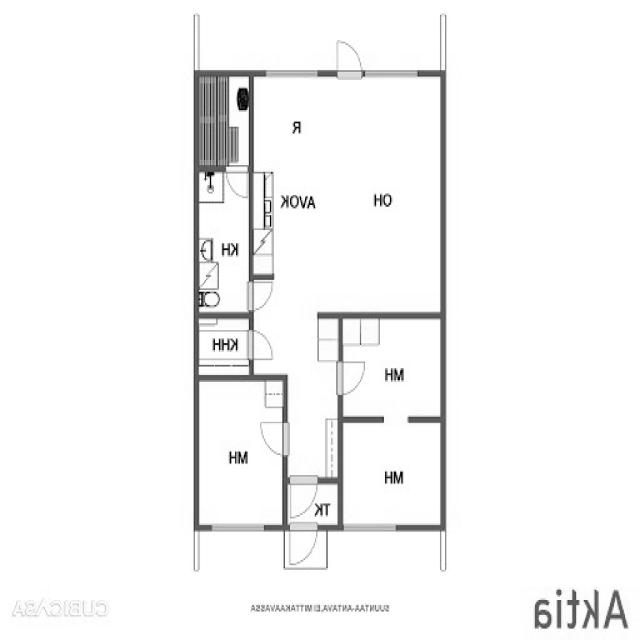door: (196, 380, 290, 530), (332, 355, 371, 399), (286, 518, 320, 568), (286, 474, 320, 522), (257, 417, 291, 460), (334, 37, 364, 80), (244, 278, 276, 314), (246, 328, 278, 363), (224, 163, 252, 201)
window: (204, 517, 270, 538), (260, 65, 323, 83), (340, 517, 402, 535), (364, 66, 424, 83)
zone: (252, 72, 447, 310), (195, 375, 287, 530), (339, 417, 444, 527), (339, 315, 445, 418), (196, 169, 250, 316), (196, 73, 252, 170), (195, 316, 252, 377)
